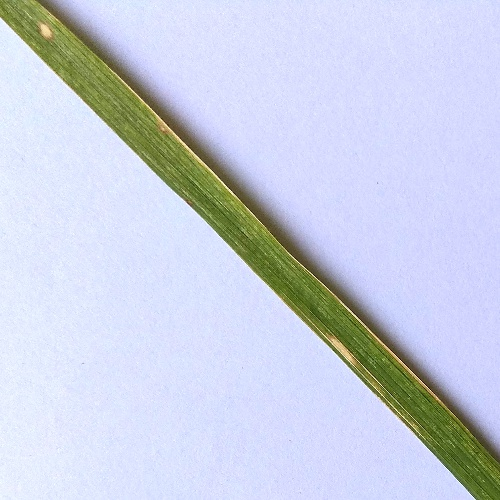Busuk Leher: (327, 330, 356, 364), (150, 107, 175, 138), (34, 16, 53, 42)
